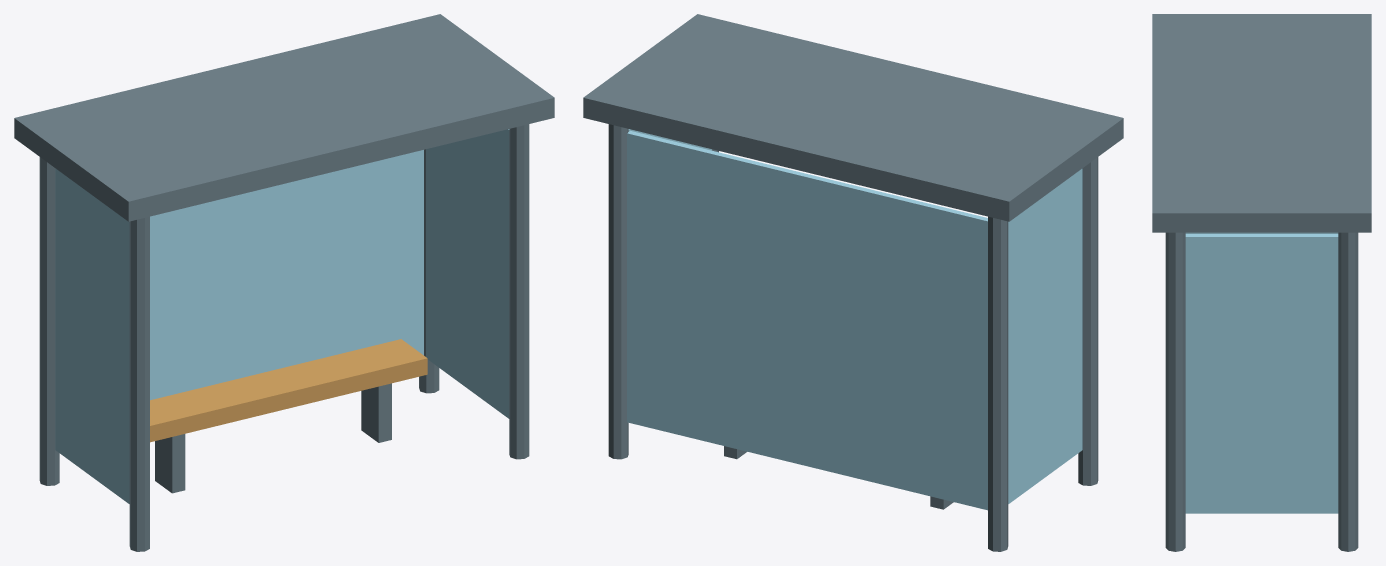
File: FTF_Building_BusShelter_3_5m.glb
3 views of the same model, side by side, from view 1: azimuth 30°, elevation 25°; view 2: azimuth 150°, elevation 25°; view 3: azimuth 270°, elevation 25° (orthographic). The views are drawn at different scales.
Parts seen in each view (by area): view 1: FTF_Building_BusShelter_3_5m_Mesh; view 2: FTF_Building_BusShelter_3_5m_Mesh; view 3: FTF_Building_BusShelter_3_5m_Mesh.
Part boxes in pixels (x1,y1,x2,y2): FTF_Building_BusShelter_3_5m_Mesh: (14, 14, 554, 551); FTF_Building_BusShelter_3_5m_Mesh: (583, 14, 1123, 551); FTF_Building_BusShelter_3_5m_Mesh: (1152, 14, 1371, 551).
Bounding box in the file's own units: 3.55 × 2.87 × 1.65.
